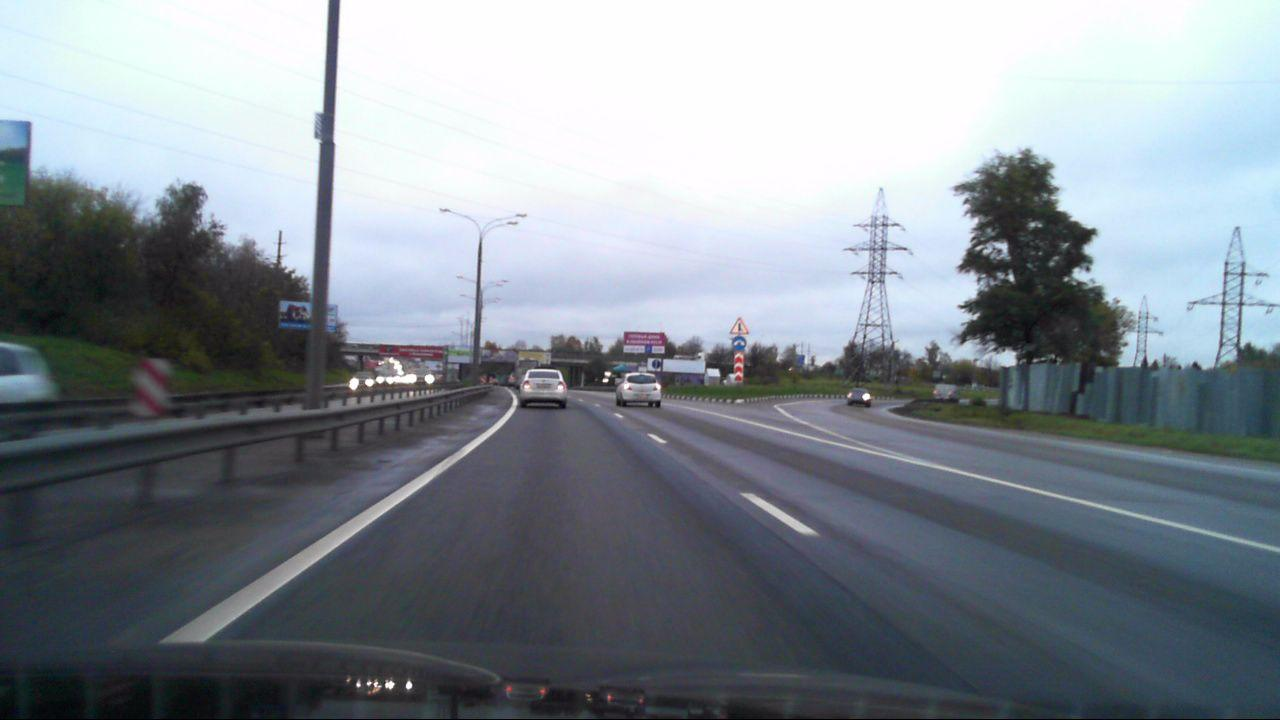2_3_6: (728, 316, 749, 335)
4_1_1: (652, 358, 662, 369)
4_2_3: (733, 337, 747, 349)
8_22_3: (733, 351, 745, 384)
